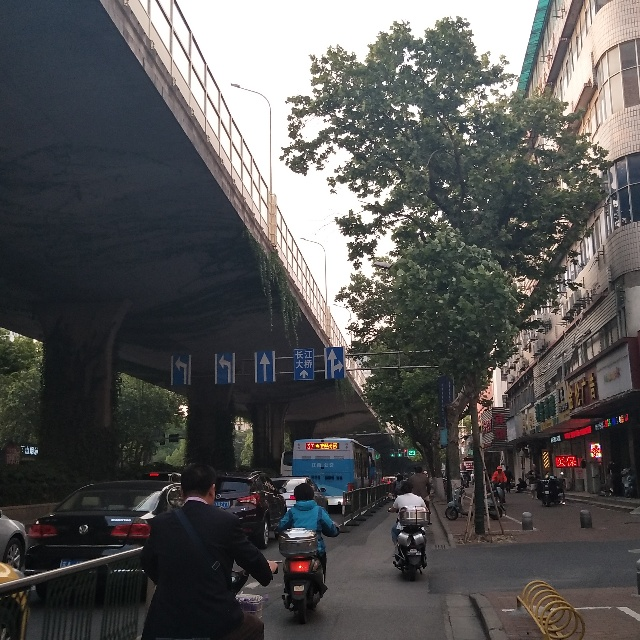left: (214, 353, 235, 384), (171, 355, 191, 386)
straight: (254, 351, 275, 383)
